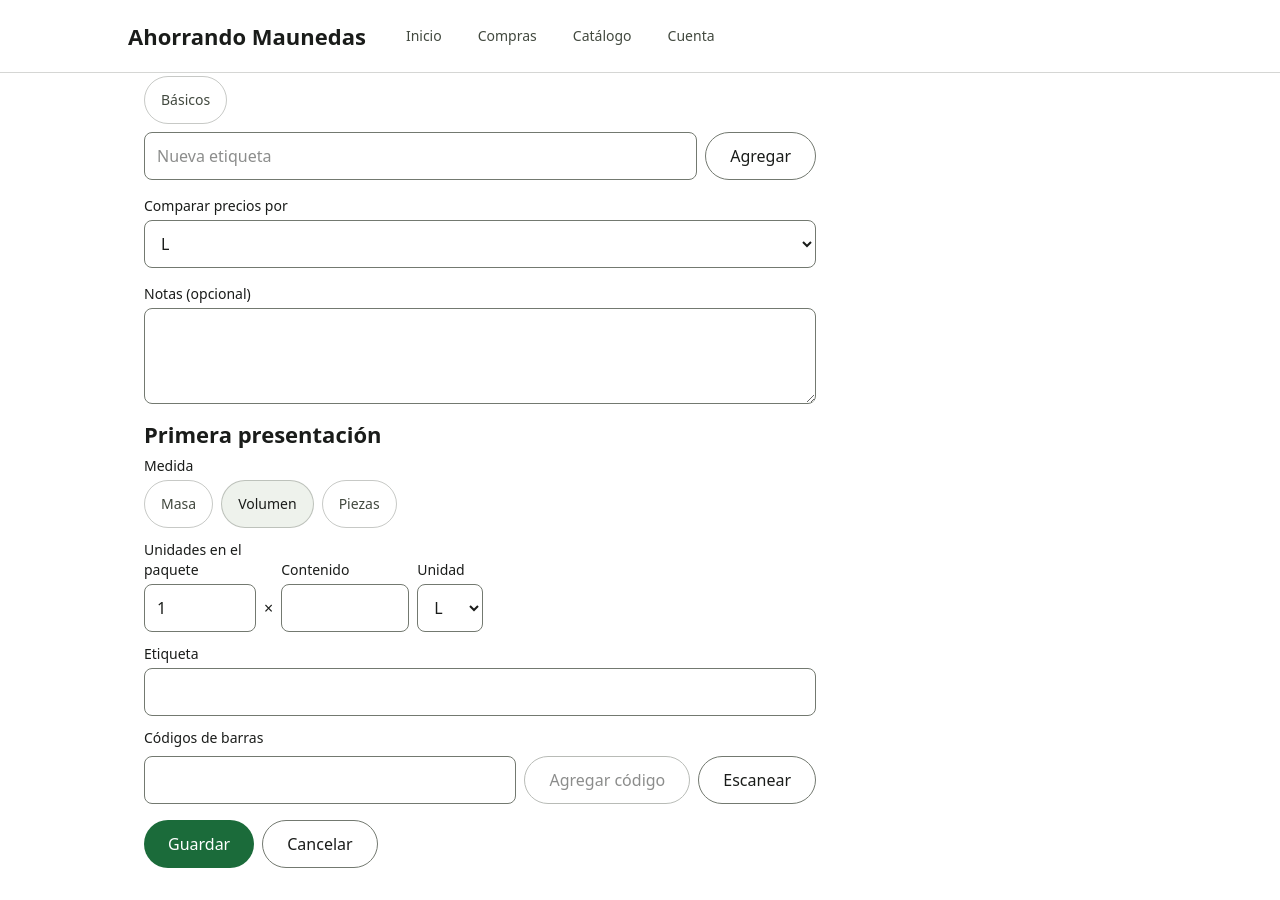
Test: W-09 editor › says whose a code already is, and what is missing before saving
This screenshot has width=1280, height=900.
(page scrolled)
In the field named "Nuevo código": {"x": 330, "y": 780} [144,756,516,804], type "7501020515343"
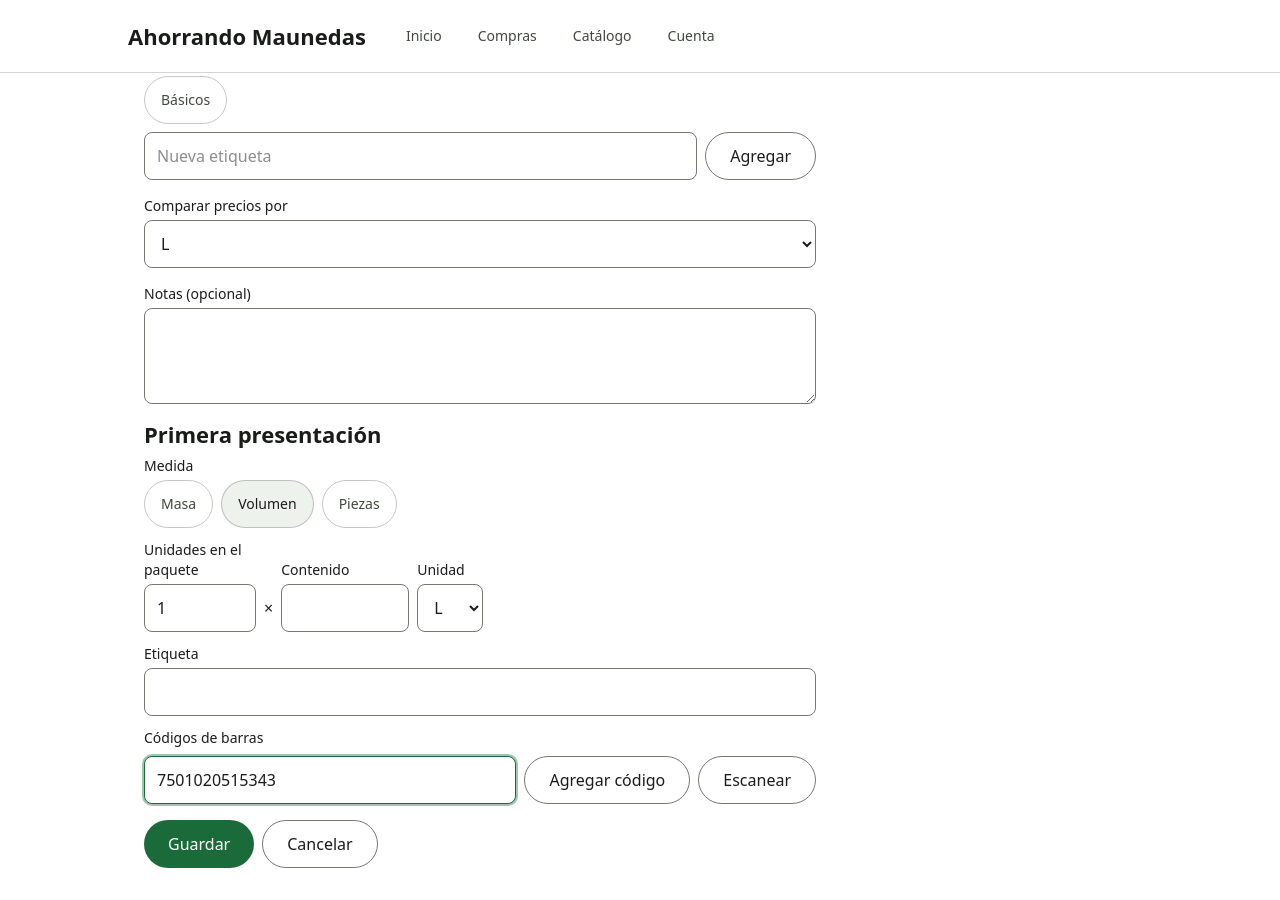
Click the button "Agregar código": {"x": 607, "y": 780} [524,756,690,804]
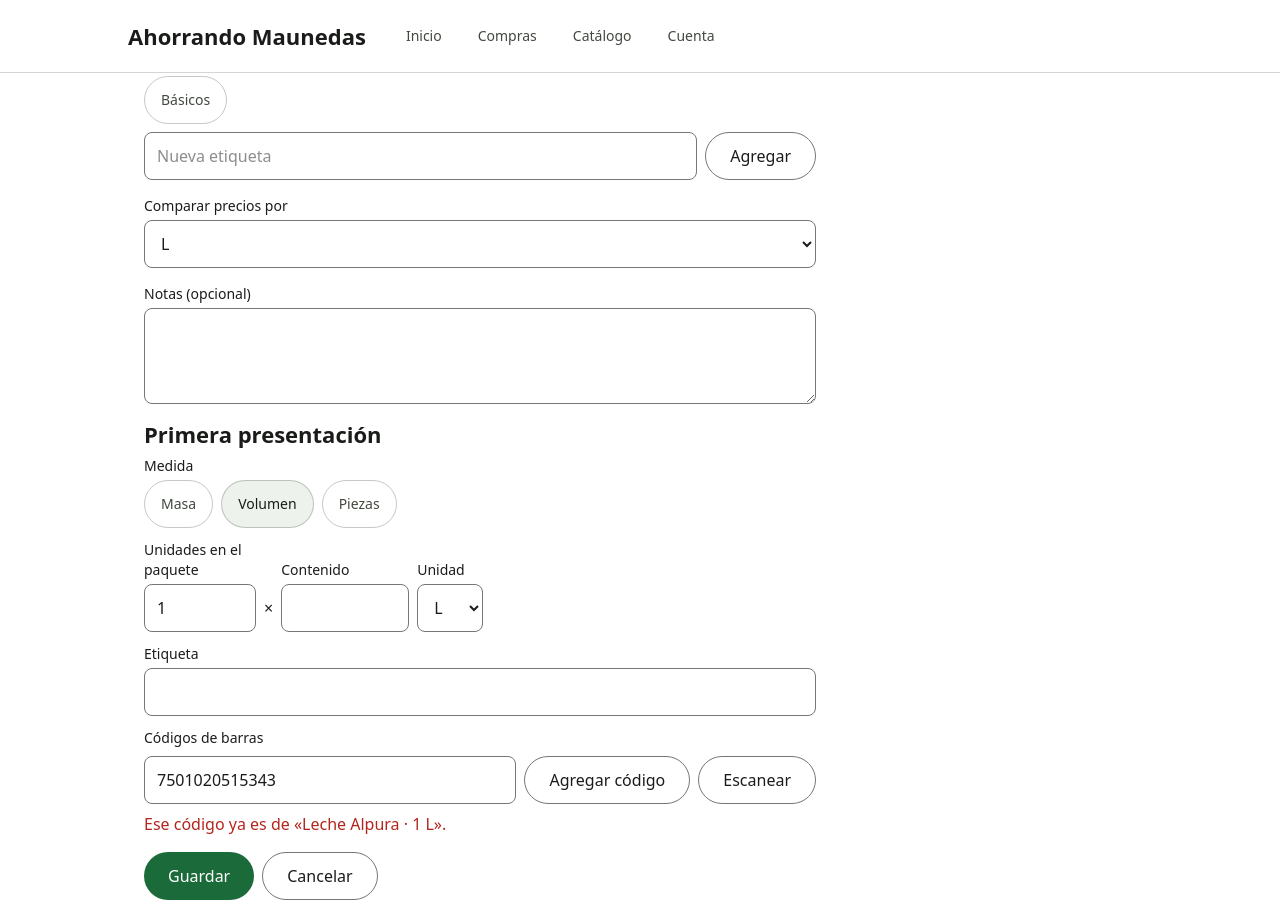
Expected: the text "Ese código ya es de «Leche Alpura · 1 L»." is shown, [144,813,446,835]
Click the button "Guardar": {"x": 199, "y": 876} [144,852,254,899]
(page scrolled)
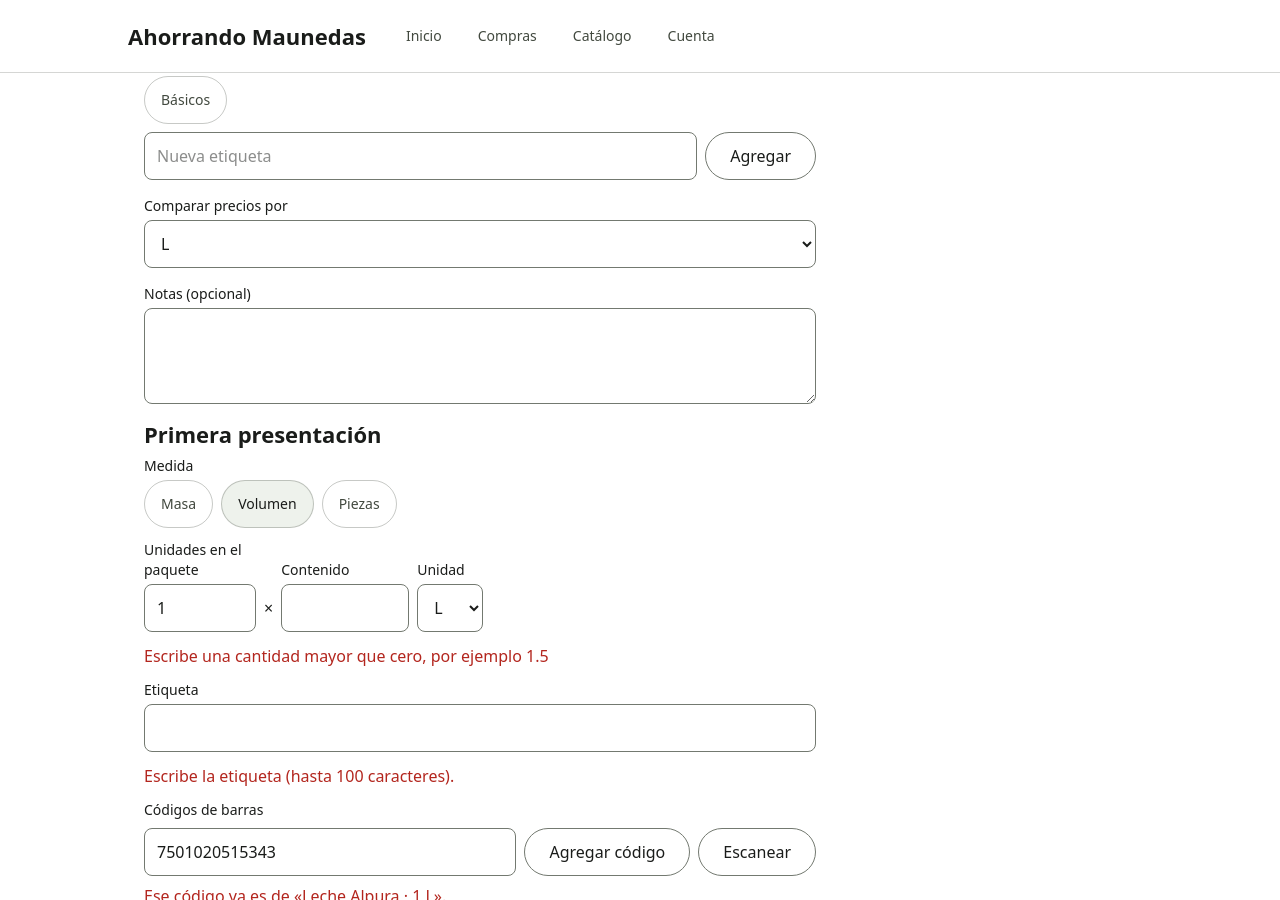
Expected: the text "Escribe una cantidad mayor que cero, por ejemplo 1.5" is shown, [144,645,549,667]
